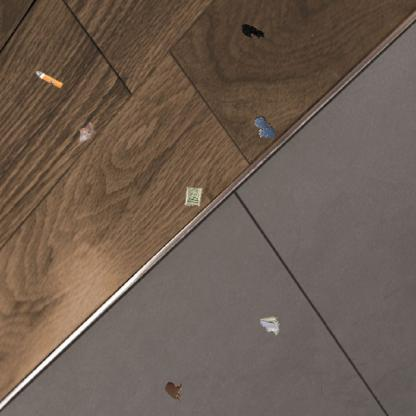dirty: (239, 22, 267, 44), (35, 70, 64, 90), (76, 121, 98, 144), (259, 314, 281, 336), (183, 185, 204, 208)
liquid: (253, 114, 277, 140), (164, 381, 183, 402)
